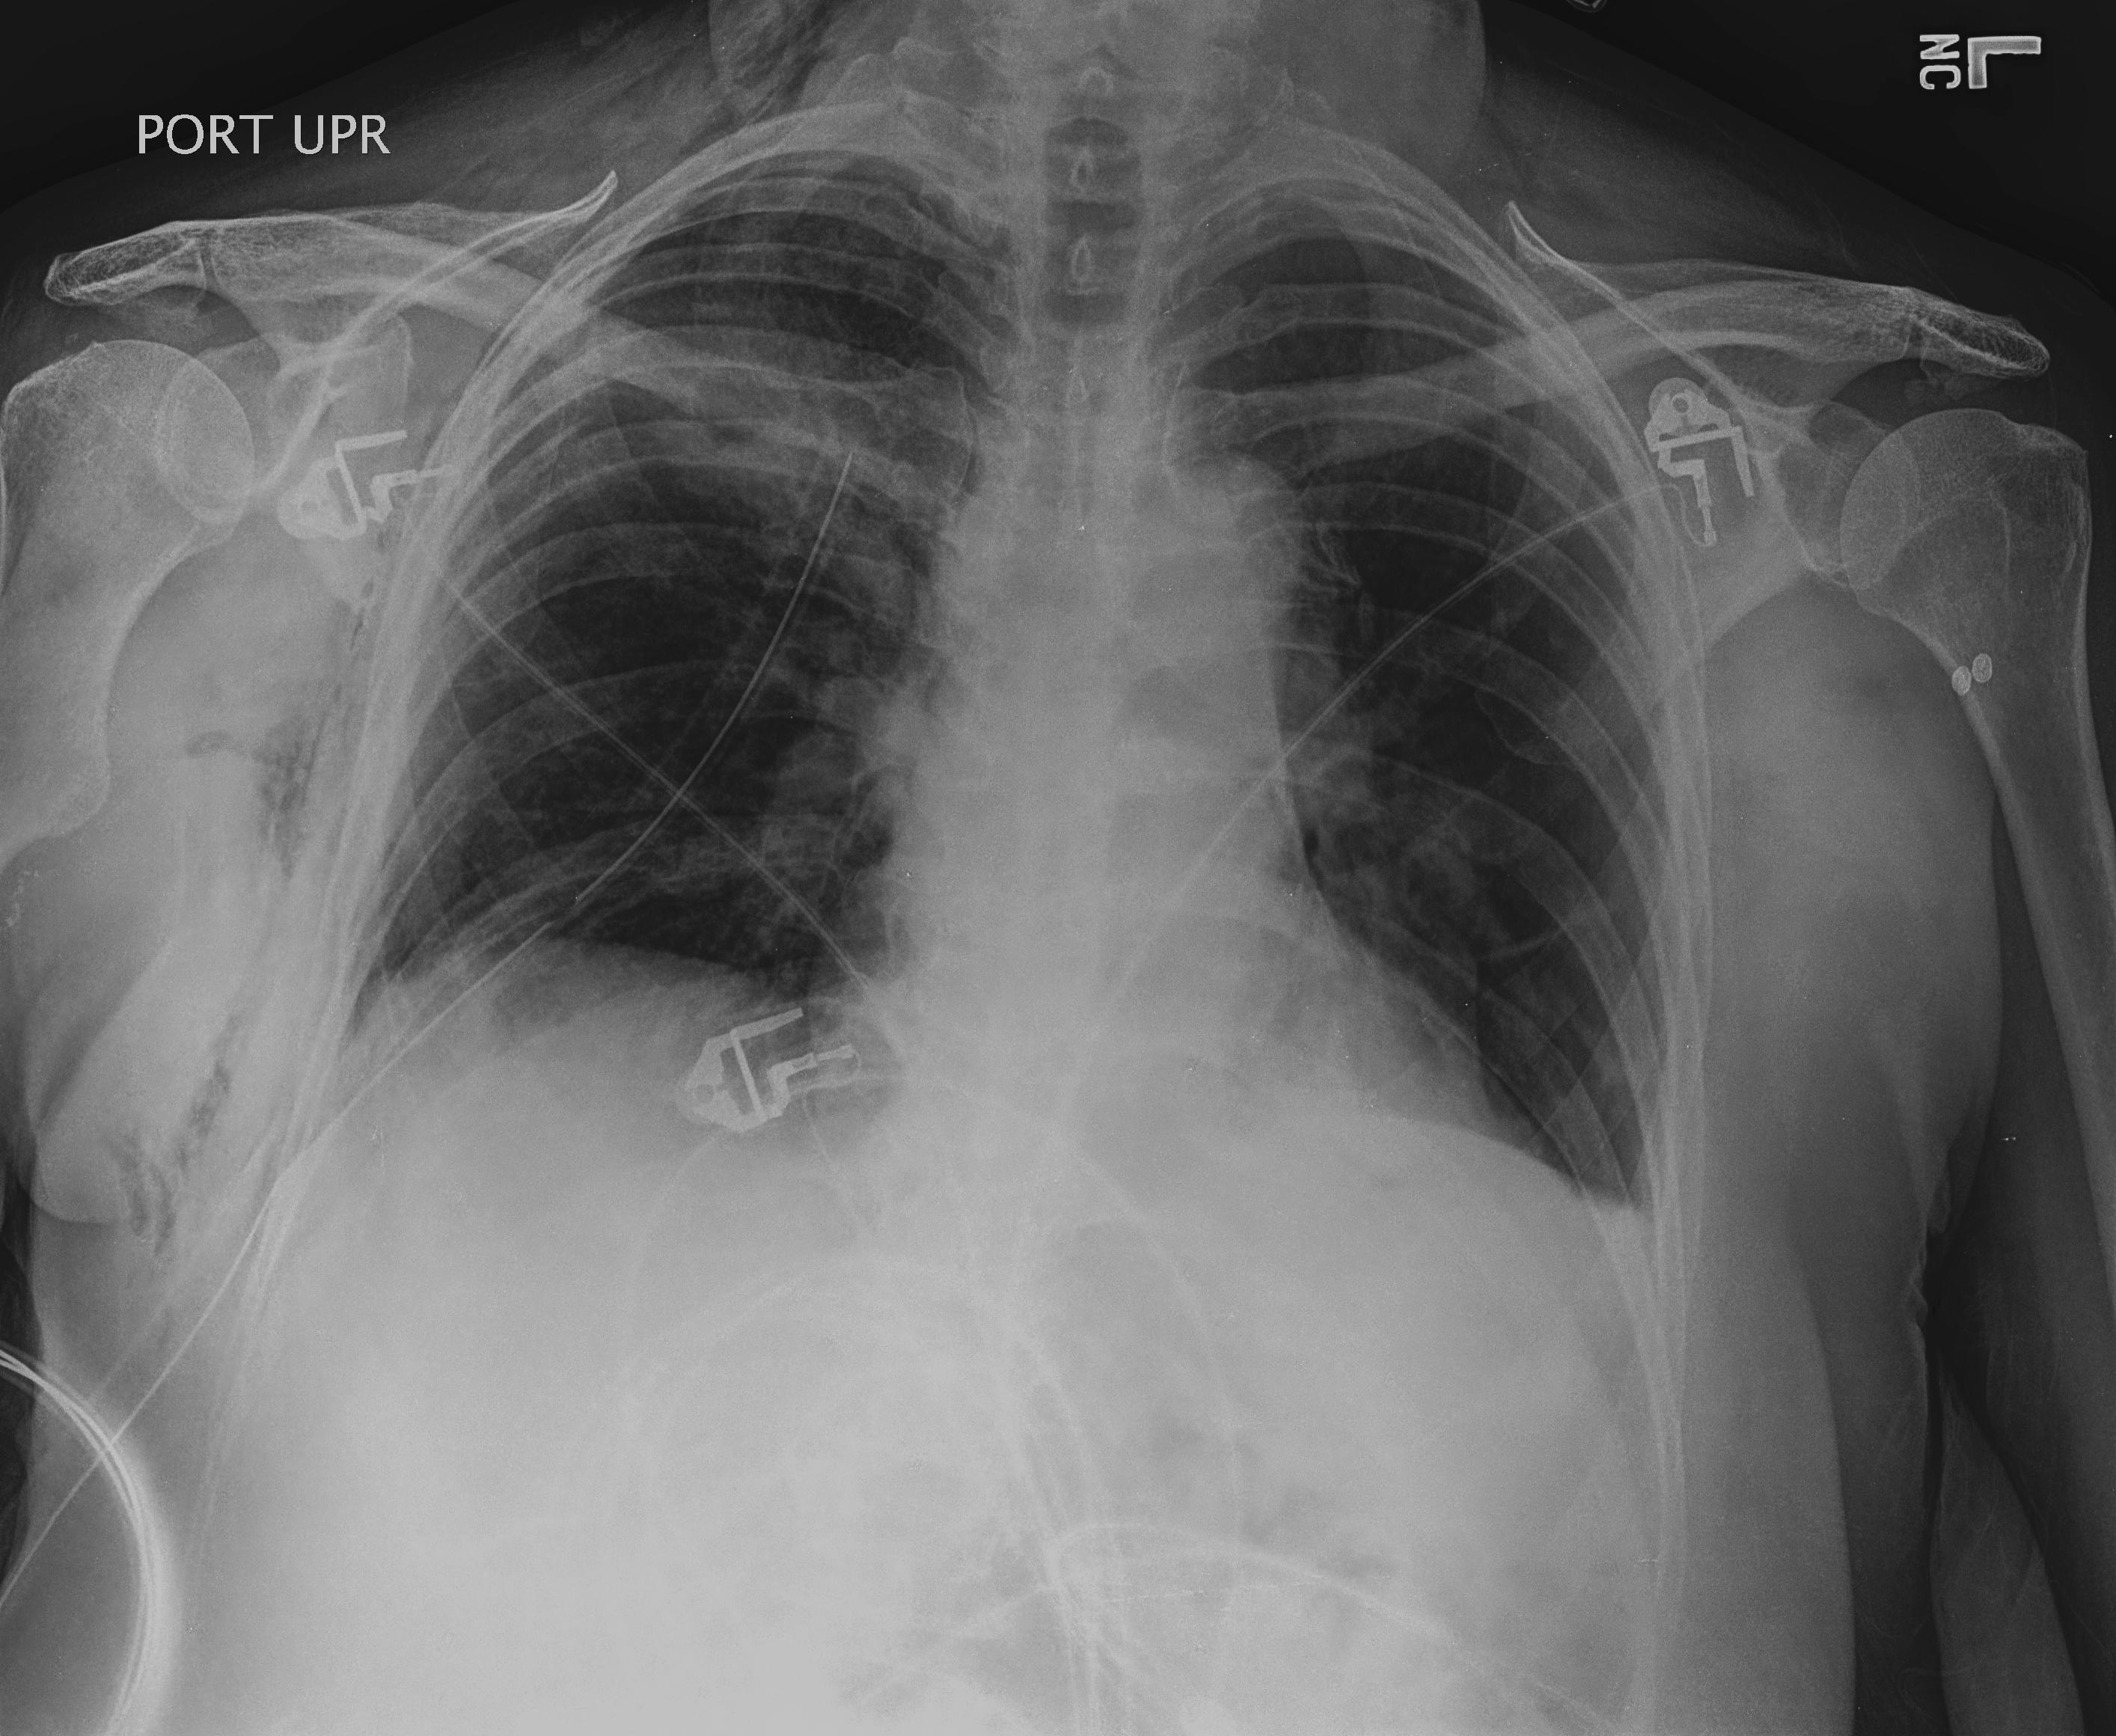Pleural Effusion: (1341, 1165, 1793, 1537), (260, 970, 705, 1314)
